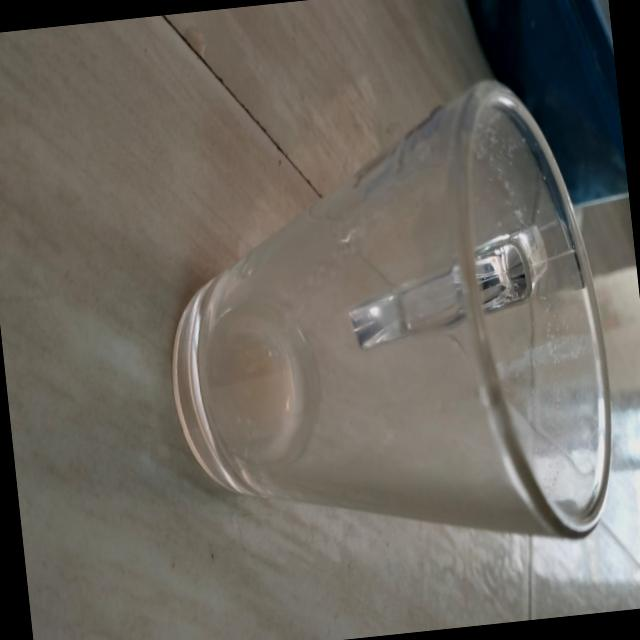glass-VX4N: (137, 65, 622, 586)
